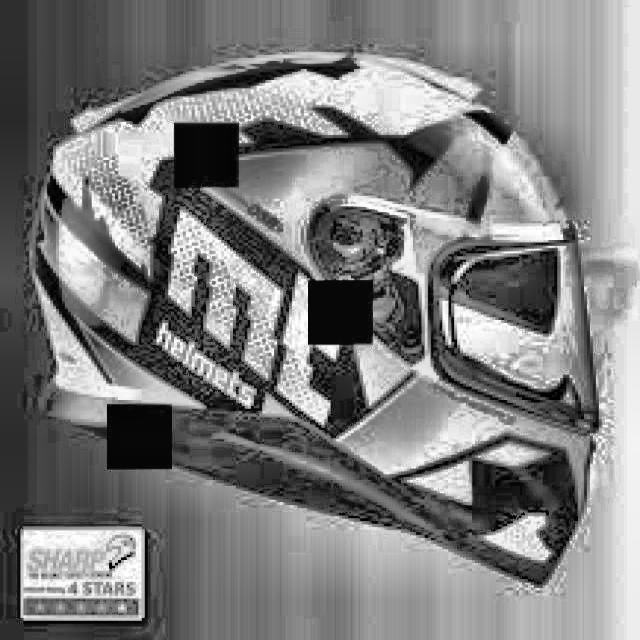Helmet: (27, 47, 632, 612)
